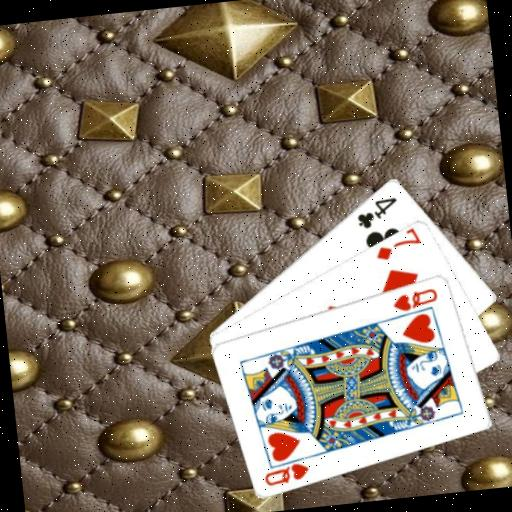4C: (353, 193, 402, 231)
7D: (371, 225, 425, 263)
QH: (259, 452, 316, 489), (389, 284, 441, 314)
